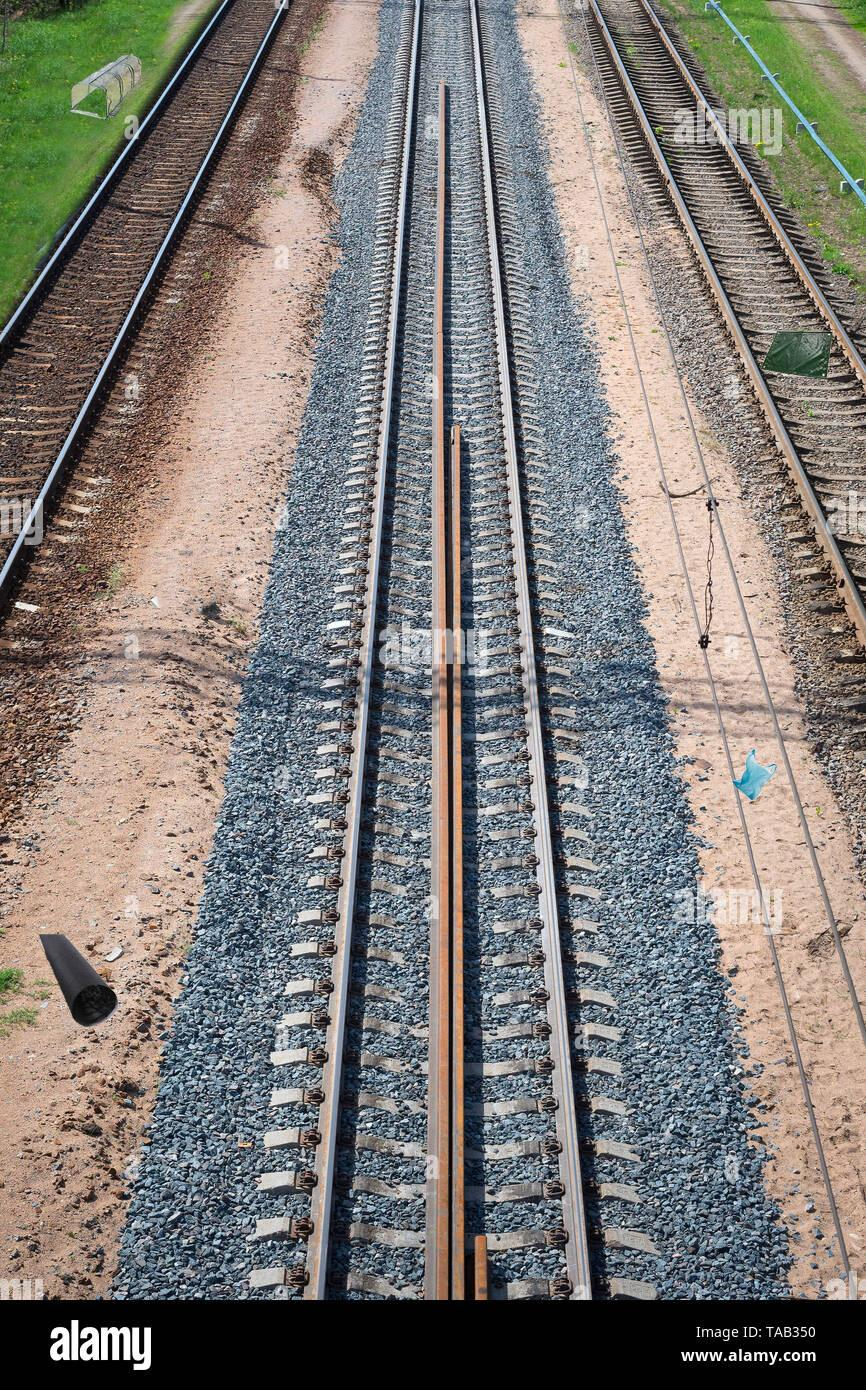Dust_screen: (770, 315, 828, 400)
Green_house: (45, 40, 152, 138)
Plastic: (725, 742, 780, 810)
